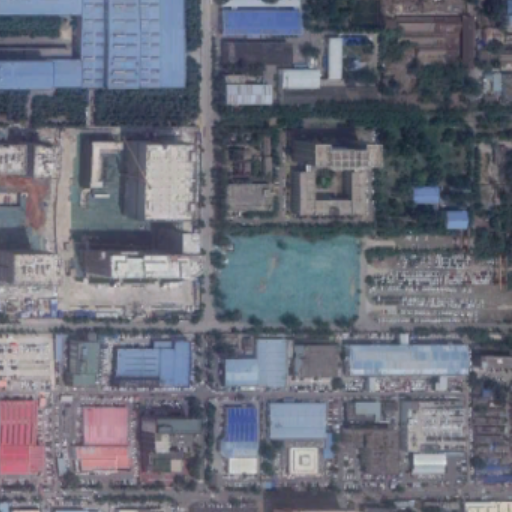cw: (216, 230, 363, 329)
